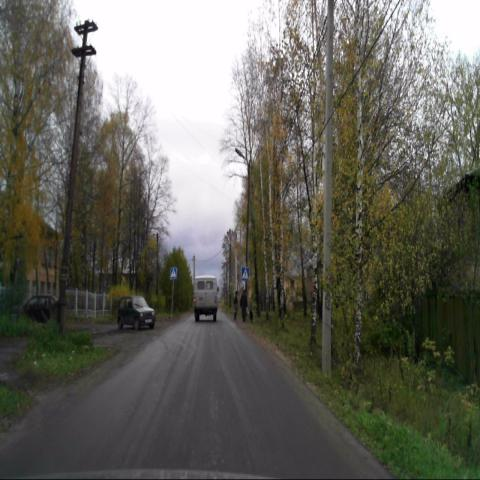5_19_1: (241, 269, 249, 281), (170, 267, 177, 279)
